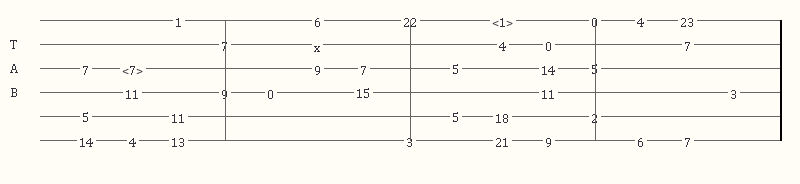0: (267, 86, 278, 99), (545, 38, 556, 51), (591, 14, 602, 27)
1: (175, 14, 186, 27)
11: (125, 86, 143, 99), (171, 110, 189, 123), (541, 86, 559, 99)
13: (171, 134, 189, 147)
14: (79, 134, 97, 147), (541, 62, 559, 75)
15: (356, 85, 374, 99)
18: (495, 110, 513, 123)
2: (591, 110, 602, 123)
21: (495, 134, 513, 147)
22: (403, 14, 421, 27)
23: (680, 14, 698, 27)
3: (406, 134, 417, 147), (730, 86, 741, 99)
4: (129, 134, 140, 147), (499, 38, 510, 51), (637, 14, 648, 27)
5: (82, 109, 93, 123), (452, 61, 463, 75), (452, 109, 463, 123), (591, 61, 602, 75)
6: (314, 14, 325, 27), (637, 134, 648, 147)
7: (82, 62, 93, 75), (221, 38, 232, 51), (360, 62, 371, 75), (684, 38, 695, 51), (684, 134, 695, 147)
9: (221, 86, 232, 99), (314, 62, 325, 75), (545, 134, 556, 147)
harmonic: (122, 62, 147, 75), (492, 14, 517, 27)
x: (314, 39, 324, 49)
